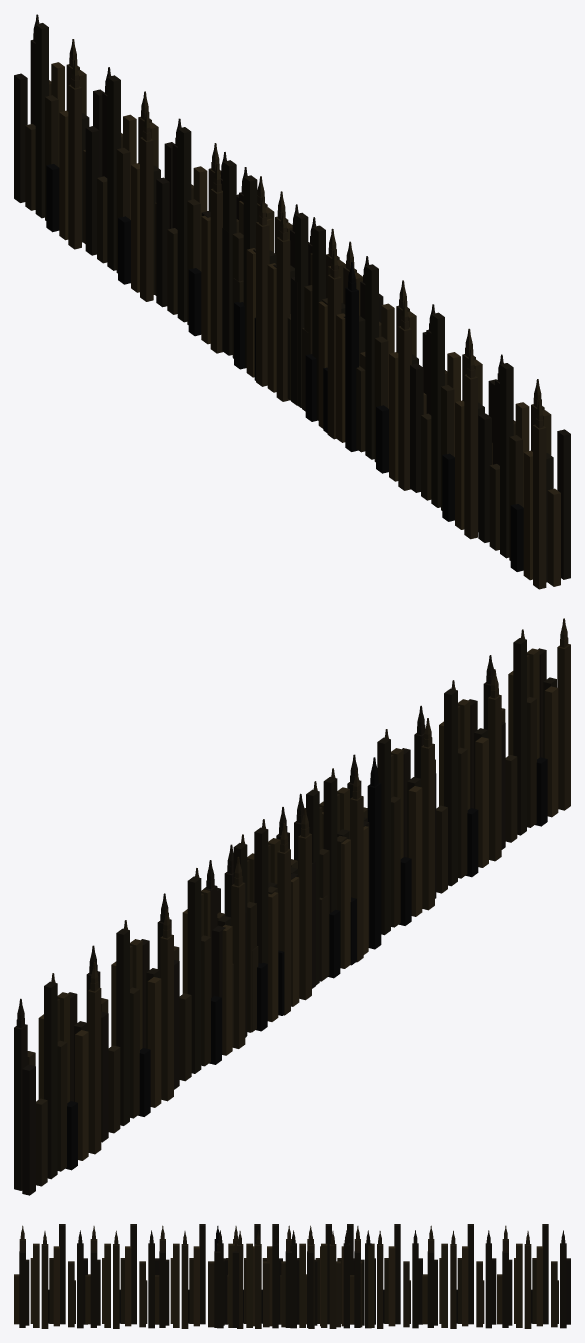
The model's file is Background Tower.fbx.
3 views of the same model, one above another, from view 1: azimuth 30°, elevation 25°; view 2: azimuth 150°, elevation 25°; view 3: azimuth 270°, elevation 25° (orthographic). The views are drawn at different scales.
Visible parts, largest first — view 1: bangunan; view 2: bangunan; view 3: bangunan.
Part boxes in pixels (x1=…): bangunan: x1=14, y1=14, x2=570, y2=589; bangunan: x1=14, y1=618, x2=570, y2=1195; bangunan: x1=14, y1=1224, x2=570, y2=1328.
Size of the model in its own units: 1421 by 8218 by 41719.
